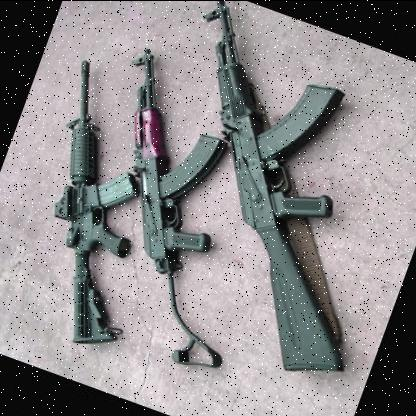rifle: (97, 0, 416, 398), (0, 51, 210, 359), (62, 50, 280, 294)
